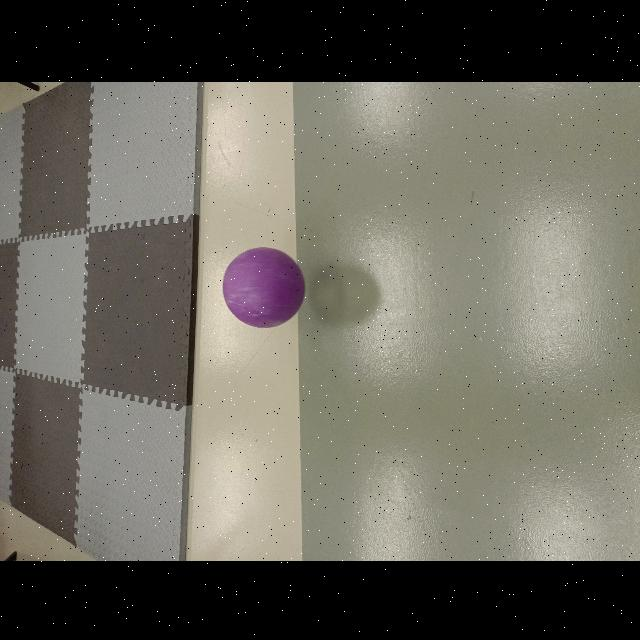P: (222, 246, 304, 326)
